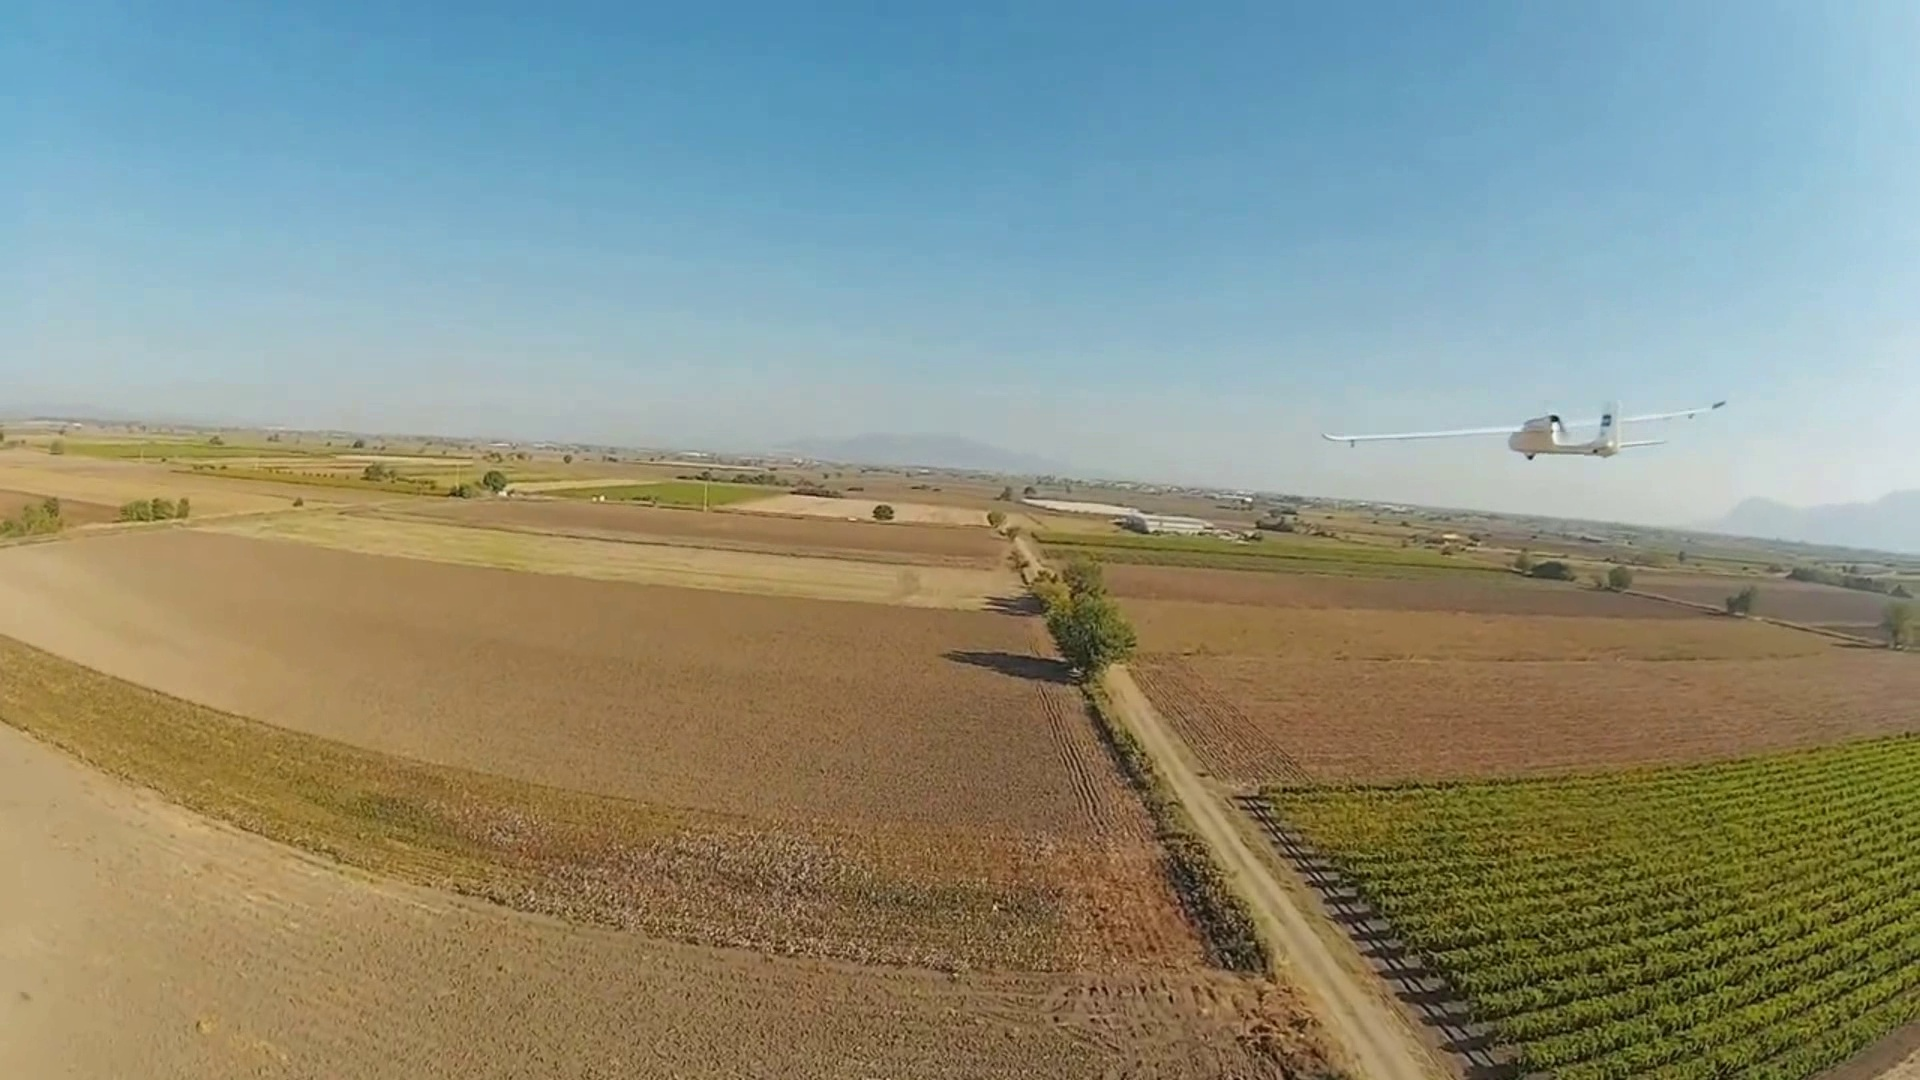airplane: (1321, 400, 1730, 458), (1509, 393, 1730, 462)
